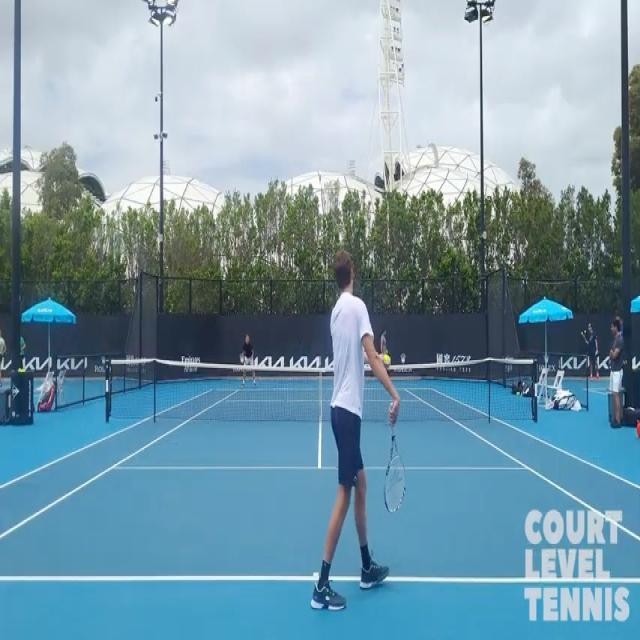serve_toss: (311, 246, 398, 601)
